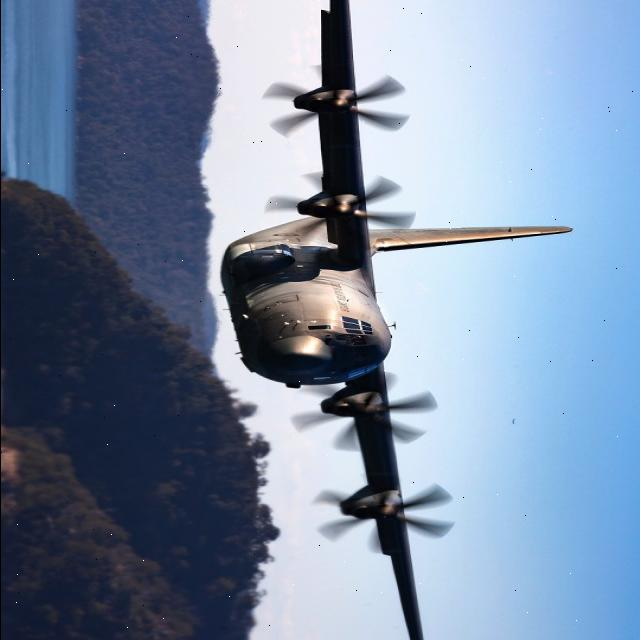C130: (193, 1, 609, 628)
